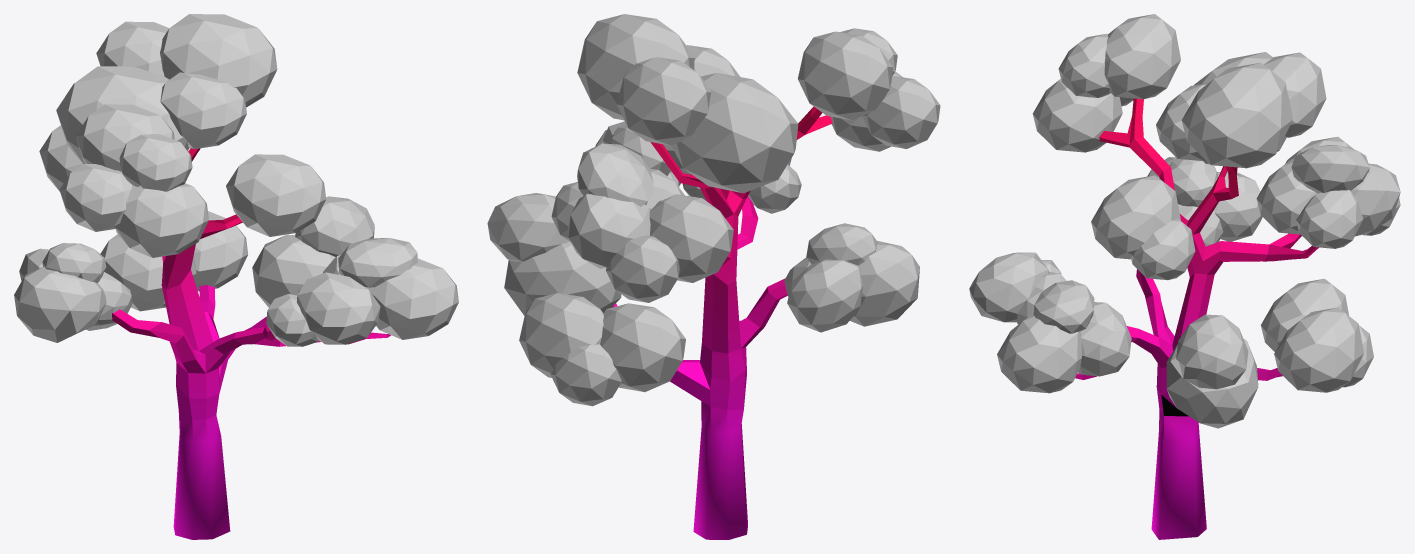
File: Hon-Tree1.fbx
3 renders of one model, left to right at view 1: azimuth 30°, elevation 25°; view 2: azimuth 150°, elevation 25°; view 3: azimuth 270°, elevation 25°, orthographic. The views are drawn at different scales.
Parts seen in each view (by area): view 1: PA_TreeSet1_Pile3.016, PA_TreeSet1_Pile3.002; view 2: PA_TreeSet1_Pile3.016, PA_TreeSet1_Pile3.002; view 3: PA_TreeSet1_Pile3.016, PA_TreeSet1_Pile3.002.
Boxes of the visible parts, bbox=[...] form: PA_TreeSet1_Pile3.016: bbox=[14, 14, 458, 346]; PA_TreeSet1_Pile3.002: bbox=[112, 148, 390, 539]; PA_TreeSet1_Pile3.016: bbox=[487, 14, 940, 406]; PA_TreeSet1_Pile3.002: bbox=[612, 106, 832, 539]; PA_TreeSet1_Pile3.016: bbox=[969, 14, 1400, 428]; PA_TreeSet1_Pile3.002: bbox=[1075, 98, 1318, 539].
Bounding box in the file's own units: 876 × 1081 × 880.
